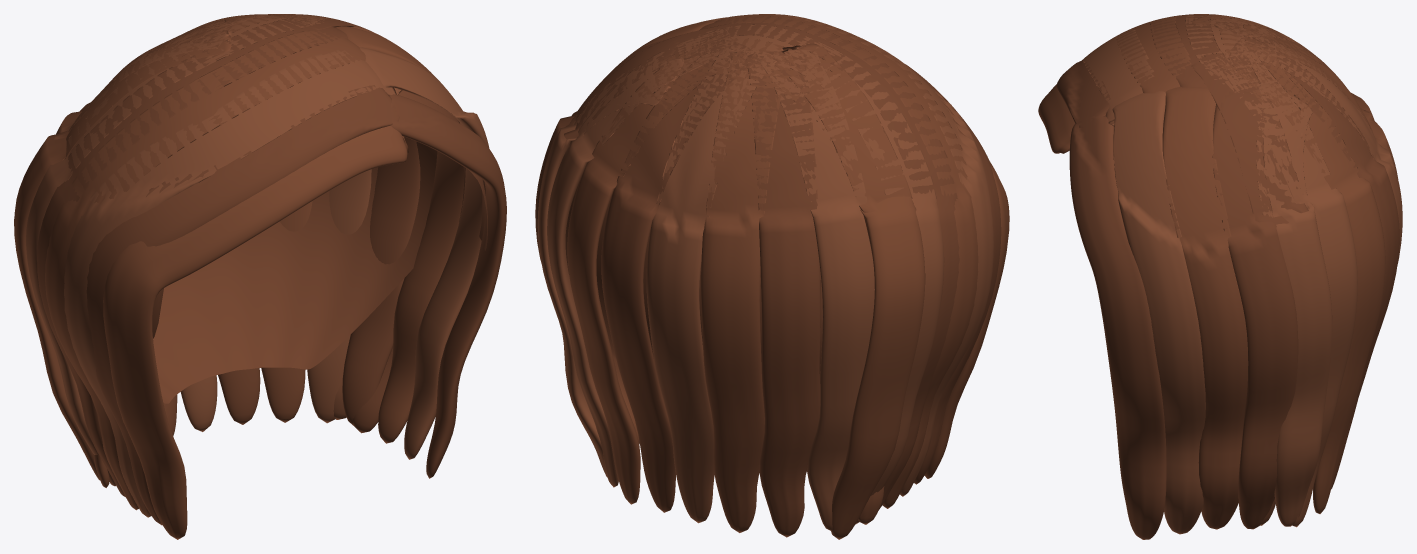
File: Feminine-side-sweep-headband261-hair.glb
3 renders of one model, left to right at view 1: azimuth 30°, elevation 25°; view 2: azimuth 150°, elevation 25°; view 3: azimuth 270°, elevation 25°, orthographic. The views are drawn at different scales.
Parts seen in each view (by area): view 1: 226 hair / Hair / sculpted 0.002, 226 hair / Hair / sculpted 1.004, 226 hair / Hair / sculpted 2.002, 226 hair / Hair / sculpted 1.003; view 2: 226 hair / Hair / sculpted 0.002, 226 hair / Hair / sculpted 2.002, 226 hair / Hair / sculpted 1.004, 226 hair / Hair / sculpted 1.003; view 3: 226 hair / Hair / sculpted 1.004, 226 hair / Hair / sculpted 2.002, 226 hair / Hair / sculpted 0.002.
Boxes of the visible parts, left/top/right/bottom form: 226 hair / Hair / sculpted 0.002: left=14, top=14, right=463, bottom=539; 226 hair / Hair / sculpted 1.004: left=37, top=14, right=506, bottom=525; 226 hair / Hair / sculpted 2.002: left=26, top=14, right=489, bottom=517; 226 hair / Hair / sculpted 1.003: left=152, top=90, right=487, bottom=403; 226 hair / Hair / sculpted 0.002: left=567, top=14, right=1009, bottom=539; 226 hair / Hair / sculpted 2.002: left=537, top=14, right=993, bottom=530; 226 hair / Hair / sculpted 1.004: left=535, top=16, right=1001, bottom=537; 226 hair / Hair / sculpted 1.003: left=565, top=179, right=822, bottom=383; 226 hair / Hair / sculpted 1.004: left=1056, top=14, right=1399, bottom=539; 226 hair / Hair / sculpted 2.002: left=1083, top=14, right=1402, bottom=534; 226 hair / Hair / sculpted 0.002: left=1038, top=14, right=1398, bottom=529.
Size of the model in its own units: 1.01 by 1.07 by 0.8006.
